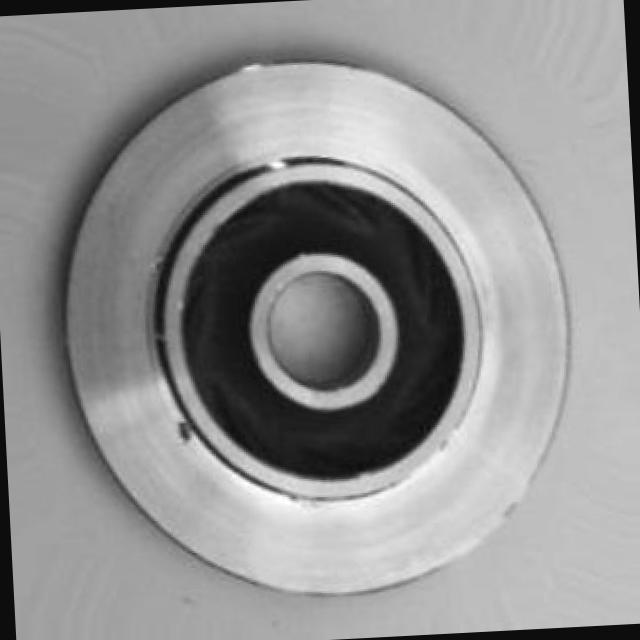Defect: (175, 419, 196, 448)
